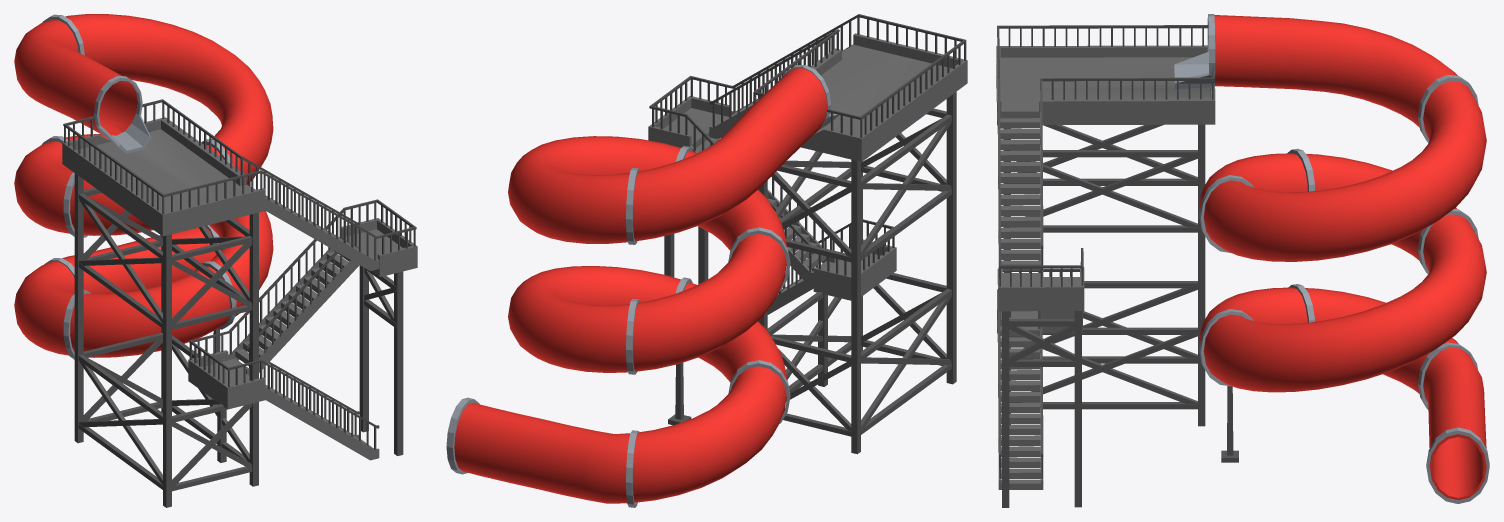
The model's file is Water_slide_02.fbx.
3 renders of one model, left to right at view 1: azimuth 30°, elevation 25°; view 2: azimuth 150°, elevation 25°; view 3: azimuth 270°, elevation 25°, orthographic. The views are drawn at different scales.
Parts seen in each view (by area): view 1: Water_slide_02; view 2: Water_slide_02; view 3: Water_slide_02.
Part boxes in pixels (x1,y1,x2,y2): Water_slide_02: [14, 14, 417, 507]; Water_slide_02: [446, 14, 967, 507]; Water_slide_02: [996, 14, 1489, 507].
Size of the model in its own units: 891 by 1162 by 1333.
